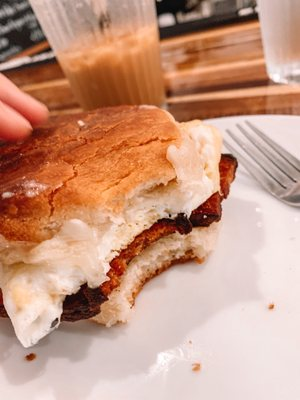burger: (223, 117, 300, 208)
pizza: (28, 0, 168, 112), (254, 0, 300, 85)
soup: (0, 103, 239, 347)
